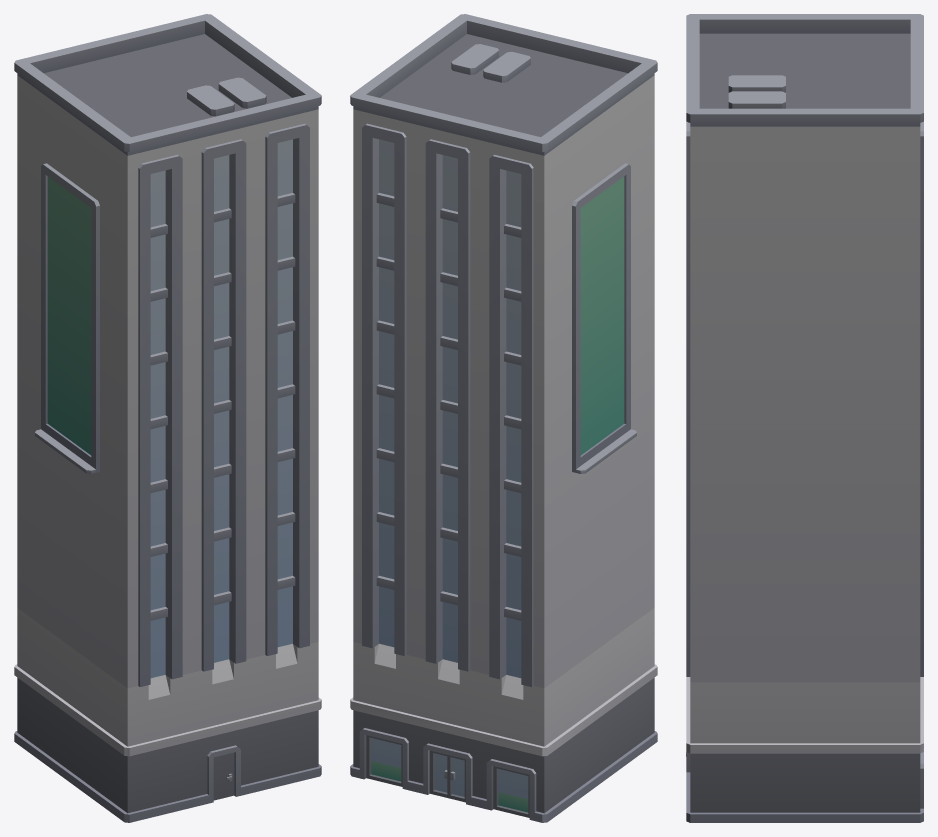
The model's file is building-skyscraper-e.glb.
3 views of the same model, side by side, from view 1: azimuth 30°, elevation 25°; view 2: azimuth 150°, elevation 25°; view 3: azimuth 270°, elevation 25° (orthographic). The views are drawn at different scales.
Visible parts, largest first — view 1: geometry_0; view 2: geometry_0; view 3: geometry_0.
Part boxes in pixels (x1,y1,x2,y2): geometry_0: [14, 14, 321, 822]; geometry_0: [350, 14, 657, 822]; geometry_0: [686, 14, 923, 822].
Bounding box in the file's own units: 0.3174 × 1 × 0.3044.
